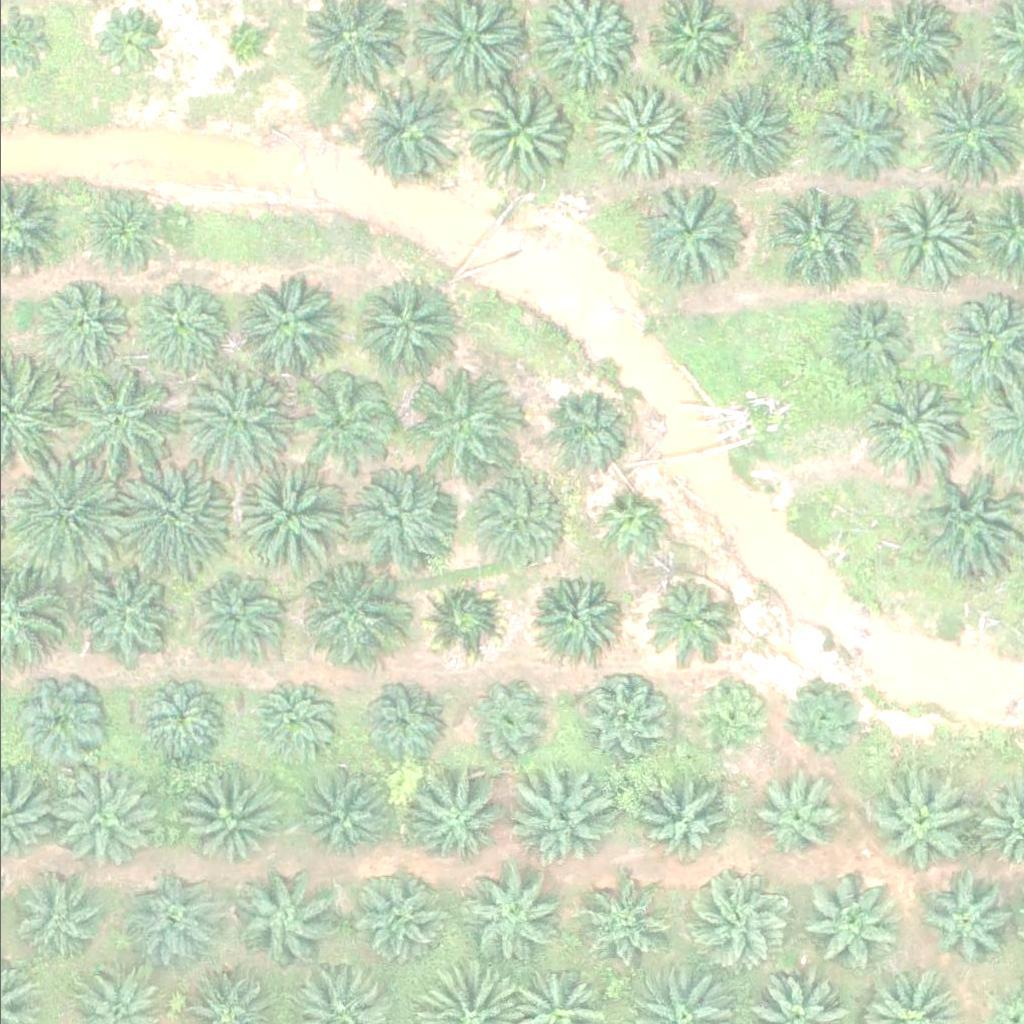Kelapa_Sawit: (7, 463, 120, 576), (118, 463, 231, 576), (236, 462, 349, 575), (351, 463, 464, 576), (176, 360, 289, 473), (45, 764, 159, 876), (292, 559, 405, 671), (62, 367, 175, 479), (459, 75, 572, 187), (351, 72, 464, 184), (452, 863, 553, 963), (342, 865, 443, 965), (406, 770, 507, 870), (6, 670, 107, 770), (66, 562, 167, 662), (406, 364, 507, 464), (294, 370, 395, 470), (140, 276, 241, 376), (232, 276, 333, 376), (358, 282, 459, 382), (634, 179, 735, 279), (585, 86, 686, 186), (686, 871, 787, 971), (745, 763, 846, 863), (862, 373, 963, 473), (876, 182, 977, 282), (233, 868, 333, 968), (109, 868, 209, 968), (626, 769, 726, 869), (510, 772, 610, 872), (173, 773, 273, 873), (128, 671, 228, 771), (472, 471, 572, 571), (39, 279, 139, 379), (684, 84, 784, 184), (802, 875, 902, 975), (866, 770, 966, 870), (767, 188, 867, 288), (808, 84, 908, 184), (568, 885, 656, 973), (302, 772, 390, 860), (681, 673, 769, 761), (463, 677, 551, 765), (351, 678, 439, 766), (246, 678, 334, 766), (543, 386, 631, 474), (580, 675, 668, 762), (639, 577, 727, 664), (534, 573, 622, 660), (416, 573, 504, 660), (195, 570, 283, 657), (85, 185, 173, 272), (917, 876, 1005, 963), (780, 675, 868, 762), (827, 299, 915, 386), (589, 489, 665, 564), (211, 17, 261, 67)
